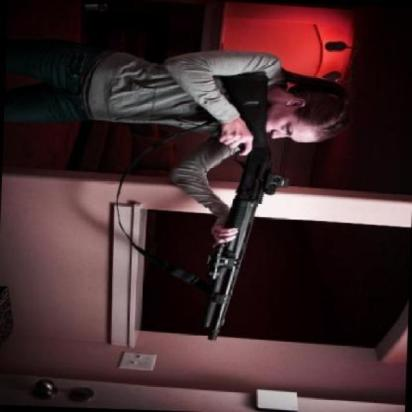Gun: (180, 66, 295, 348)
